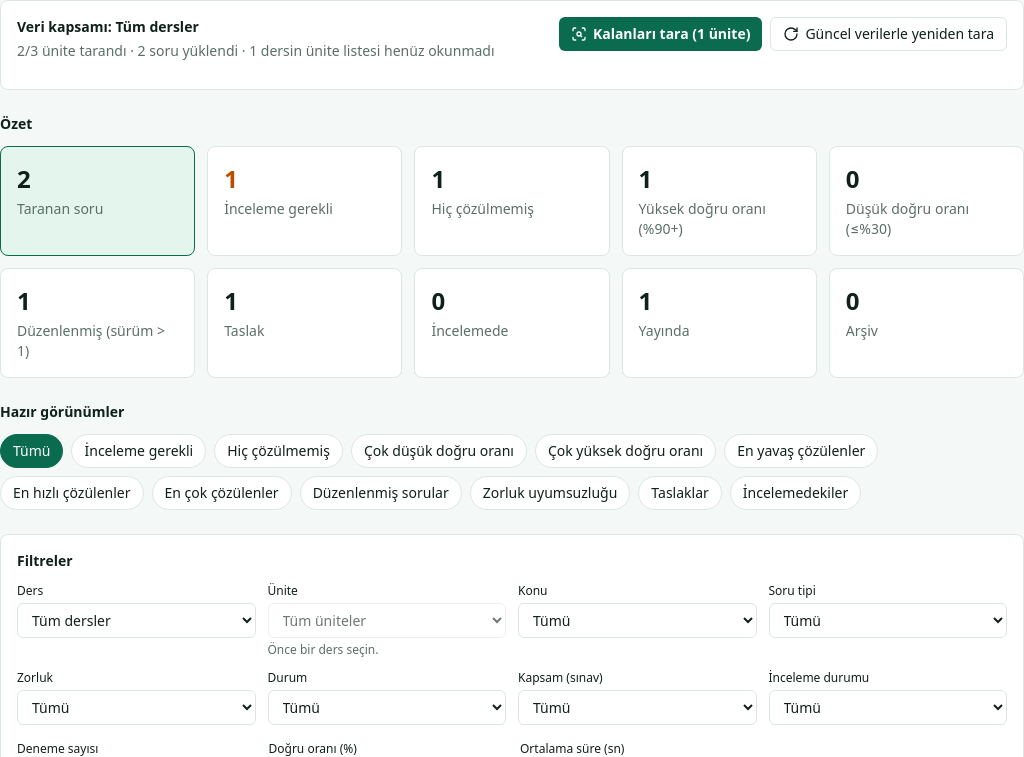
Scenario: QualityCenter scan › does not re-request lists that are already fresh in the cache
Click the button "Kalanları tara (1 ünite)" at (661, 34), box [559,17,762,51]
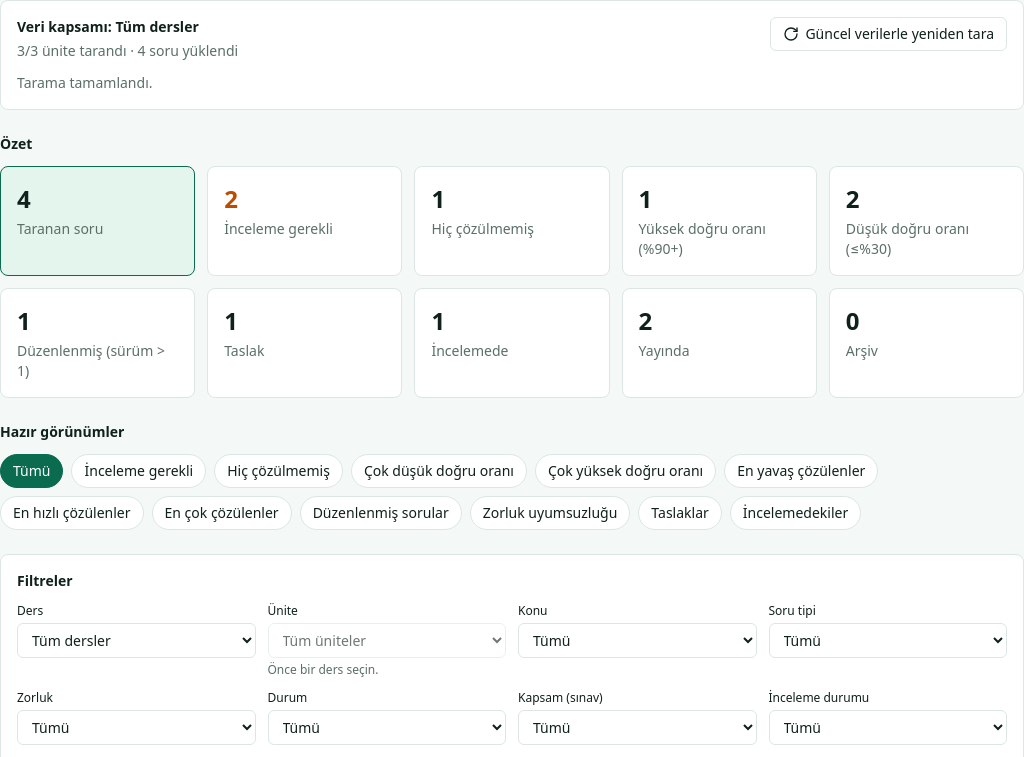
Now the text "Tarama tamamlandı." is shown, box [17,73,152,92]
